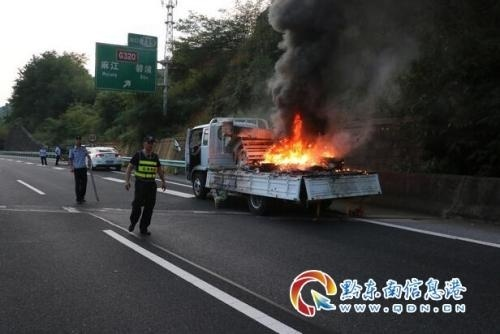fire: (257, 112, 357, 174)
